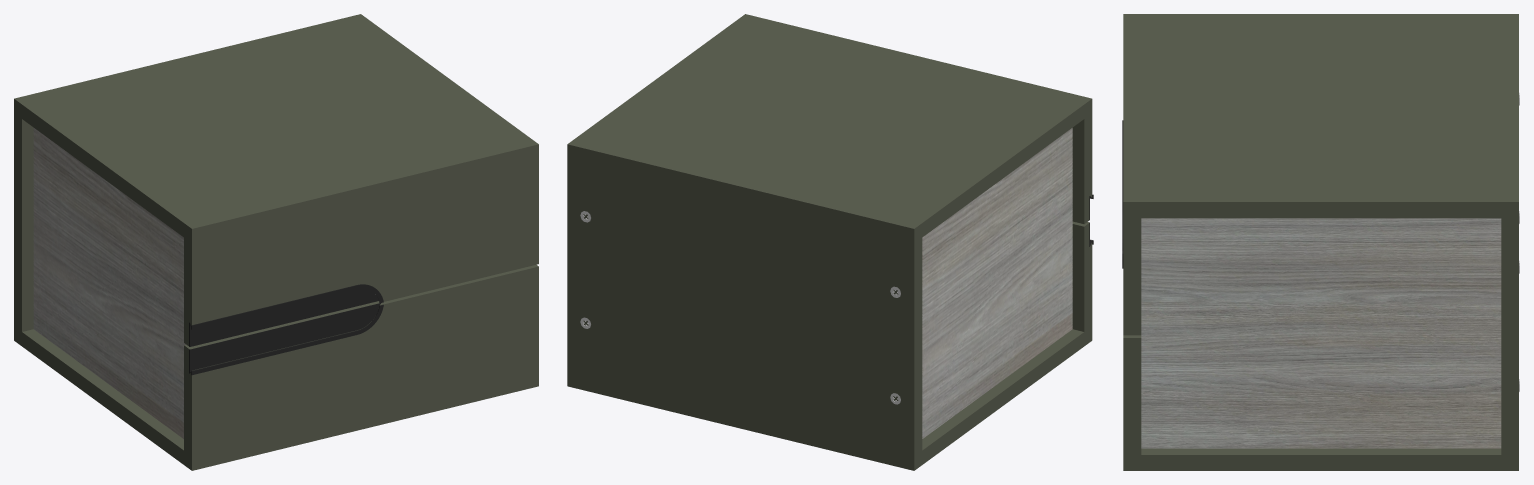
3 renders of one model, left to right at view 1: azimuth 30°, elevation 25°; view 2: azimuth 150°, elevation 25°; view 3: azimuth 270°, elevation 25°, orthographic. The views are drawn at different scales.
Visible parts, largest first — view 1: group_0.005, group_0.069, group_2.005, group_2; view 2: group_0.005, group_0.069; view 3: group_0.005, group_0.127.
Part boxes in pixels (x1,y1,x2,y2): group_0.005: (14,14,538,470); group_0.069: (33,128,185,438); group_2.005: (189,303,383,375); group_2: (189,284,383,346); group_0.005: (567,14,1092,470); group_0.069: (922,128,1072,438); group_0.005: (1123,14,1518,470); group_0.127: (1141,218,1501,448).
Size of the model in its own units: 0.4512 by 0.3014 by 0.4014.
Materials: 13 (2 with a texture image).
